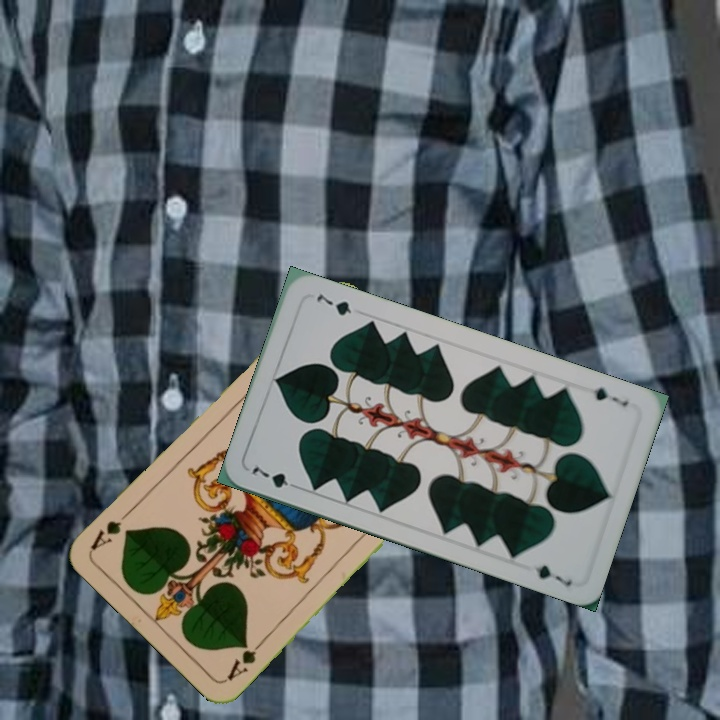G7: (248, 462, 304, 493), (589, 383, 632, 410)
GA: (222, 635, 267, 684)
